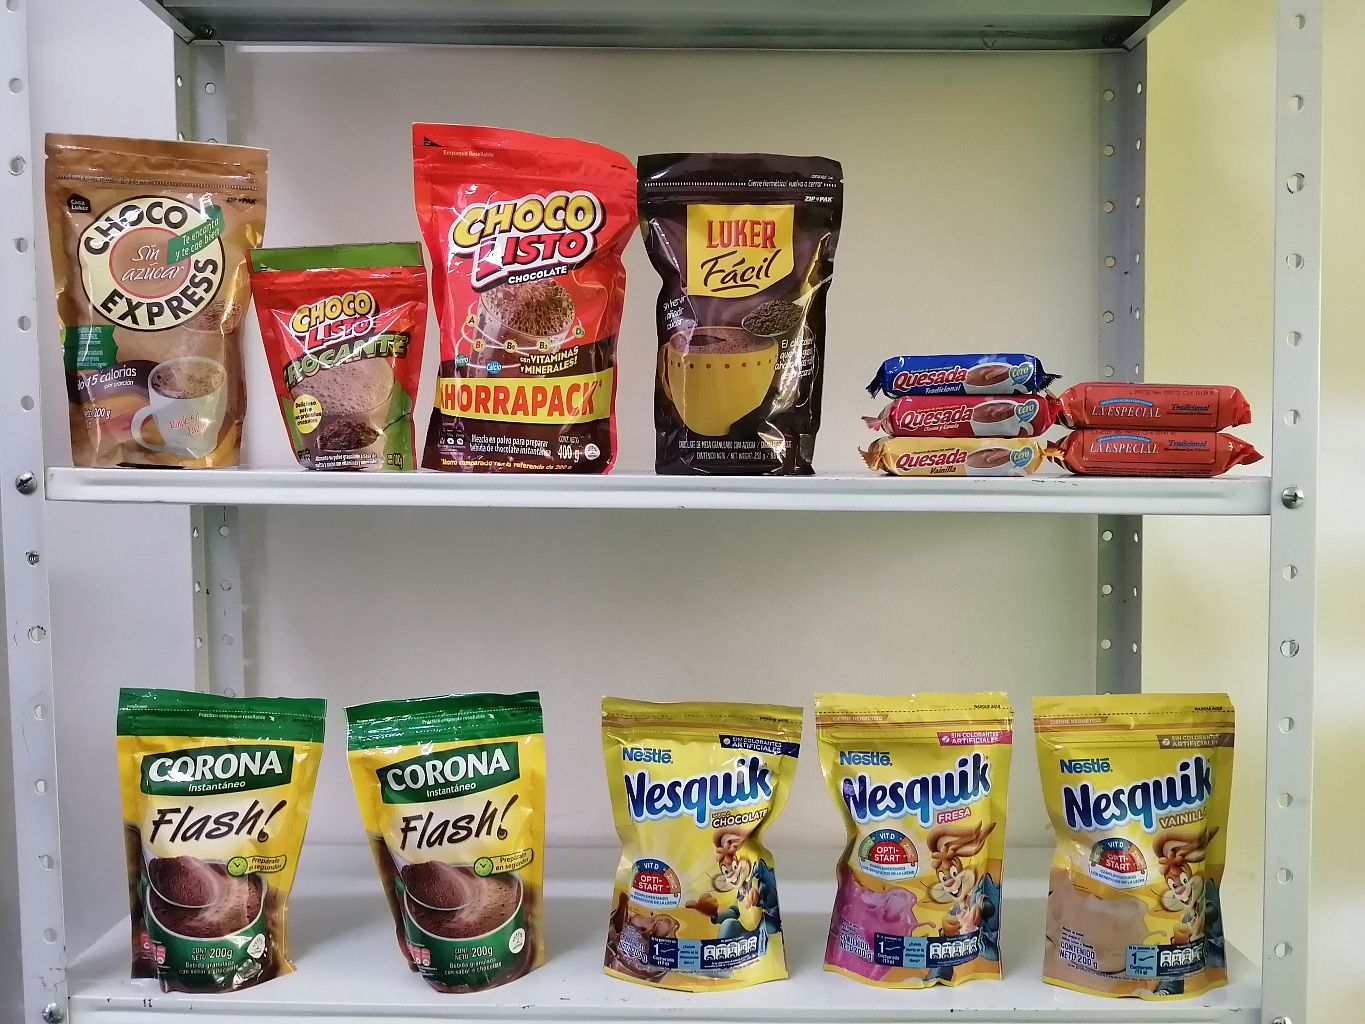COL0170102DYP10000: (266, 241, 437, 479)
COL0170103DYP40000: (394, 114, 645, 490)
COL0170303DYP20000: (586, 700, 808, 994)
COL0170305DYP20000: (813, 696, 1033, 985)
COL0170306DYP20000: (1037, 692, 1251, 992)
